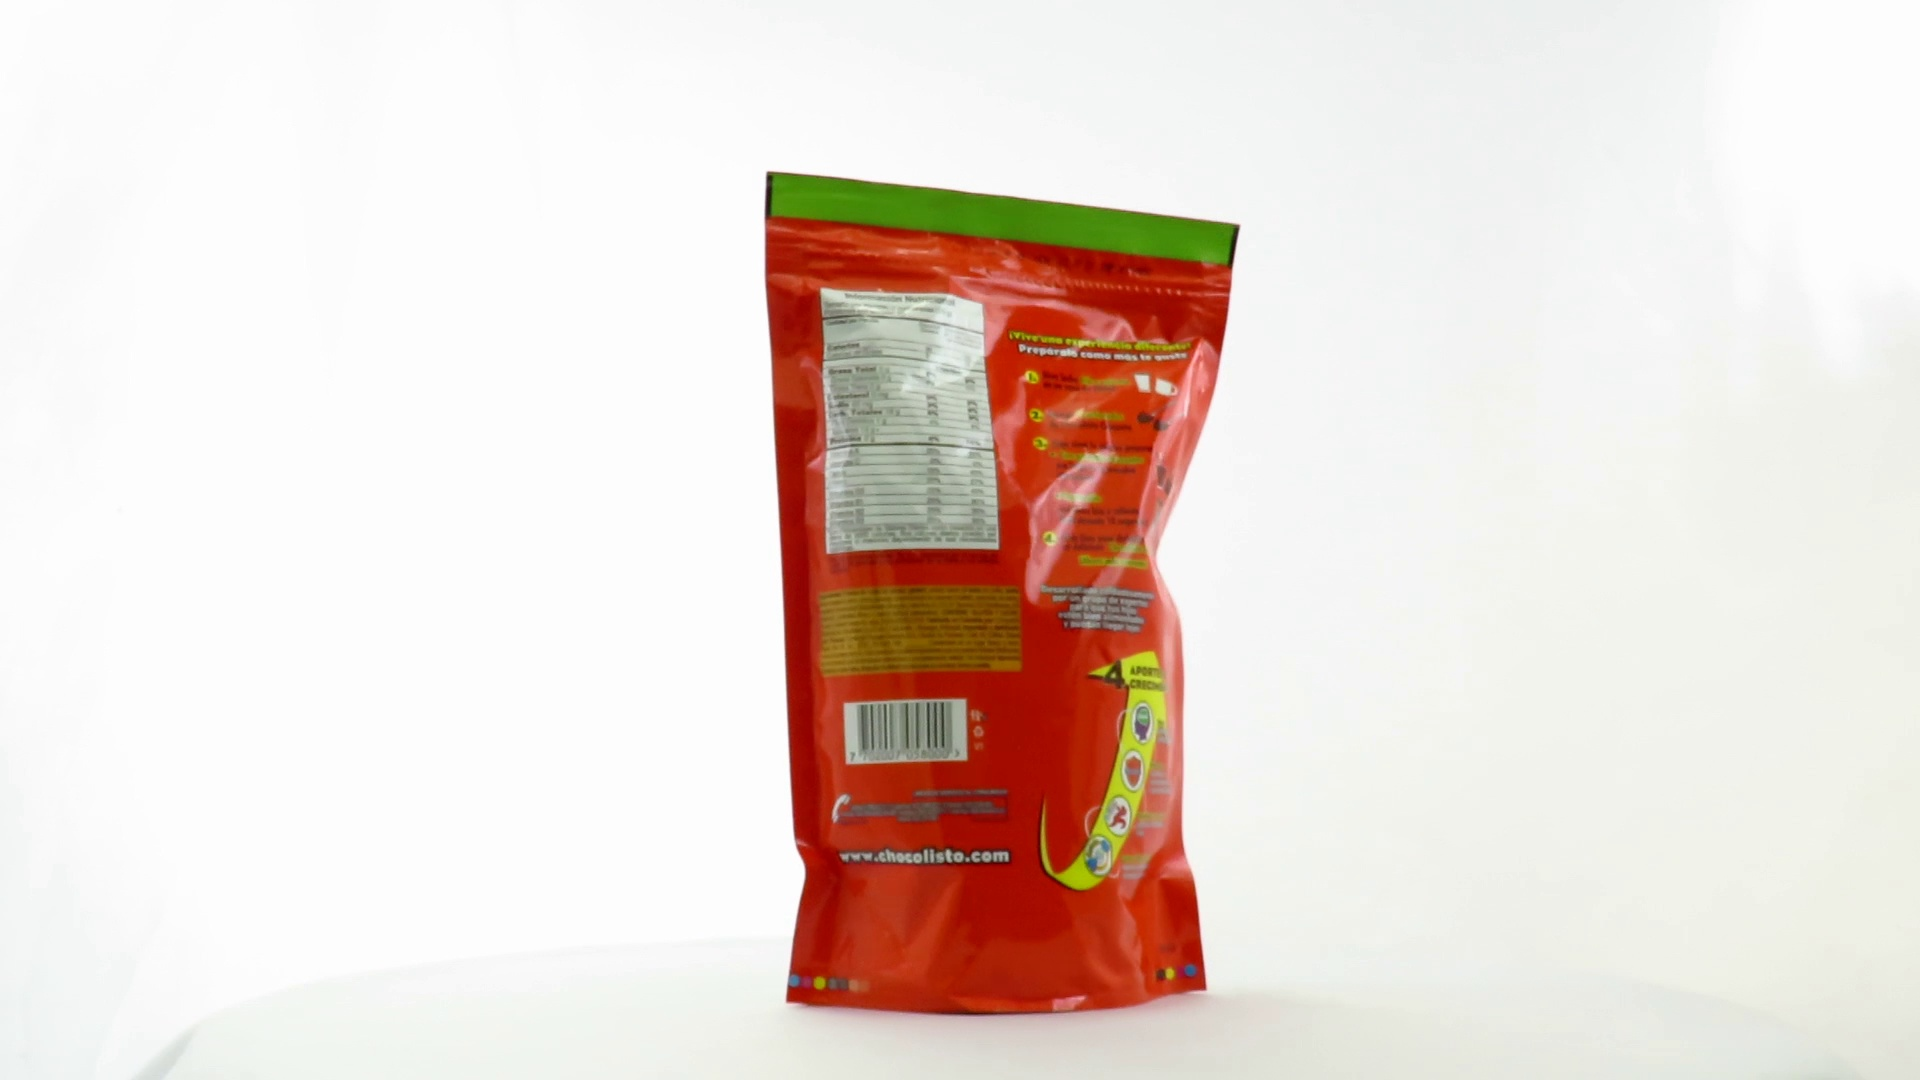COL0170102DYP50000: (760, 166, 1246, 1022)
